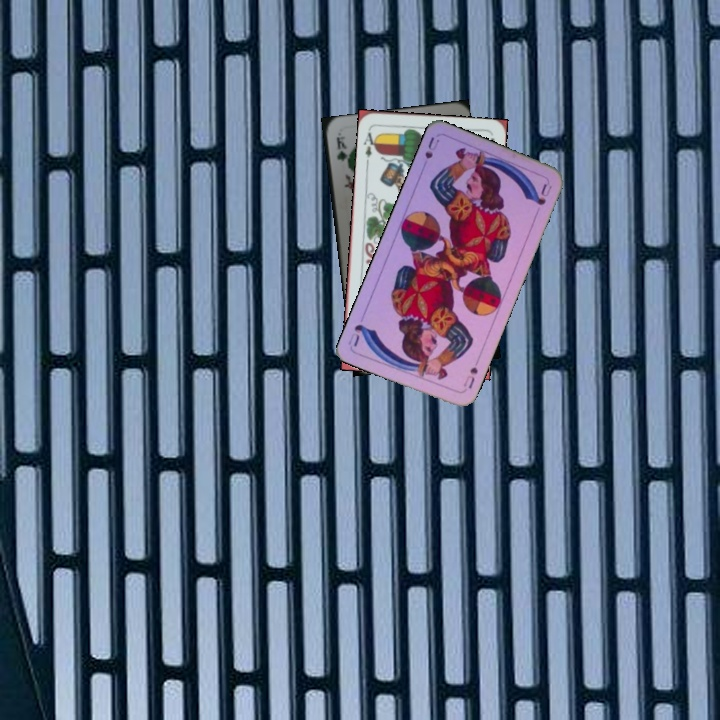EA: (360, 125, 380, 160)
GK: (333, 133, 349, 164)
SU: (418, 133, 442, 173), (459, 355, 482, 393)
